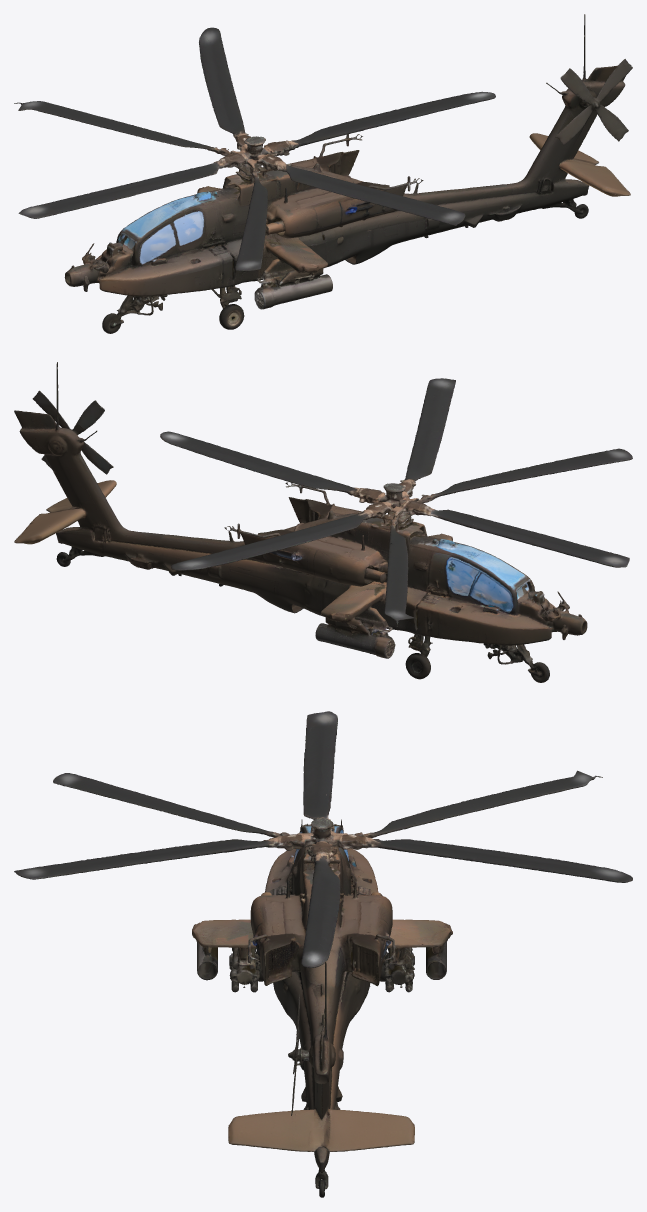
File: Meshy_AI_Apache_0405134217_texture.glb
3 views of the same model, one above another, from view 1: azimuth 30°, elevation 25°; view 2: azimuth 150°, elevation 25°; view 3: azimuth 270°, elevation 25° (orthographic). The views are drawn at different scales.
Bounding box in the file's own units: 1.9 × 0.6018 × 1.42.
Materials: 1 (1 with a texture image).
